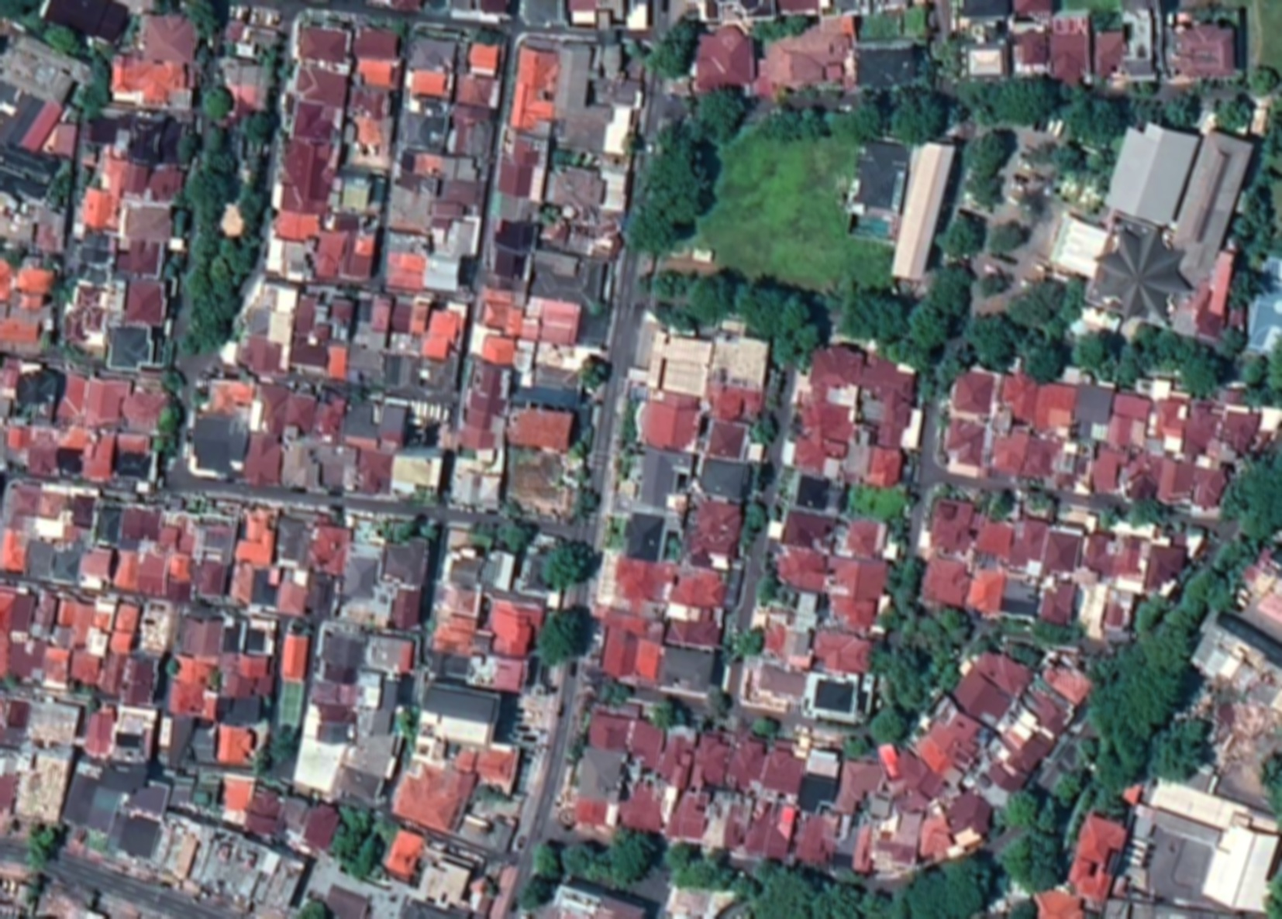building: (582, 547, 740, 693), (142, 806, 314, 919), (805, 316, 942, 453), (1079, 210, 1209, 339), (1158, 126, 1256, 289), (967, 673, 1083, 799), (532, 148, 632, 276), (291, 697, 405, 808), (1180, 610, 1282, 727), (1102, 114, 1201, 230), (787, 337, 869, 475), (888, 136, 956, 283), (941, 636, 1037, 733), (387, 148, 487, 236), (837, 133, 914, 245), (1135, 810, 1221, 908), (1142, 773, 1265, 841), (387, 749, 478, 838), (1199, 818, 1282, 915), (0, 27, 92, 113), (907, 697, 993, 787), (758, 16, 858, 92), (384, 214, 479, 293), (700, 329, 773, 431), (299, 853, 410, 919), (427, 544, 487, 659), (1060, 809, 1130, 905), (549, 79, 634, 158), (286, 703, 357, 797), (412, 676, 502, 750), (1170, 243, 1237, 342), (404, 843, 488, 919), (873, 740, 949, 818), (514, 335, 591, 411), (994, 369, 1080, 437), (455, 358, 516, 453), (524, 245, 610, 311), (56, 761, 129, 838), (239, 279, 299, 371), (504, 445, 577, 518), (0, 85, 66, 164), (758, 582, 821, 663), (11, 745, 74, 826), (683, 494, 746, 574), (1074, 572, 1142, 646), (364, 350, 458, 402), (508, 42, 561, 134), (107, 51, 191, 109), (1232, 549, 1281, 647), (645, 330, 714, 398), (187, 405, 249, 478), (1045, 212, 1111, 280), (654, 640, 727, 701), (278, 136, 334, 215), (690, 24, 756, 91), (18, 689, 86, 754), (0, 192, 69, 256), (634, 389, 701, 454), (40, 0, 133, 46), (864, 806, 923, 876), (59, 373, 131, 430), (493, 131, 550, 202), (707, 330, 772, 392), (548, 879, 650, 918), (481, 597, 543, 661), (793, 743, 846, 817), (482, 215, 538, 285), (448, 444, 505, 512), (852, 38, 927, 89), (1014, 678, 1078, 737), (598, 624, 663, 682), (802, 670, 874, 722), (506, 400, 575, 454), (104, 701, 158, 770), (314, 219, 375, 280), (832, 752, 886, 820), (0, 146, 63, 203), (571, 743, 626, 807), (610, 555, 673, 610), (742, 798, 797, 861), (519, 294, 583, 348), (632, 445, 684, 511), (104, 807, 164, 864), (164, 653, 215, 719), (1174, 22, 1234, 78), (313, 624, 368, 685), (418, 297, 468, 364), (551, 42, 593, 121), (127, 115, 192, 166), (808, 626, 873, 677), (758, 737, 811, 799), (722, 729, 773, 793), (654, 722, 702, 790), (919, 549, 974, 608), (215, 56, 273, 111), (1038, 653, 1096, 708), (687, 725, 735, 791), (384, 175, 439, 232), (943, 785, 1001, 839), (790, 806, 841, 867), (105, 323, 168, 372), (662, 601, 725, 650), (60, 283, 108, 347), (590, 47, 641, 107), (233, 506, 282, 568), (474, 285, 529, 340), (172, 609, 228, 663), (339, 537, 384, 604), (926, 495, 977, 554), (226, 7, 282, 59), (1049, 11, 1089, 83), (0, 587, 32, 677), (1240, 574, 1281, 644), (545, 163, 606, 210), (773, 544, 830, 594), (291, 59, 349, 108), (1175, 399, 1223, 458), (380, 825, 427, 885), (948, 365, 999, 419), (1044, 436, 1092, 493), (664, 786, 712, 843), (380, 533, 430, 587), (713, 792, 757, 853), (294, 18, 351, 65), (306, 517, 351, 576), (469, 739, 520, 791), (780, 507, 836, 554), (511, 375, 582, 412), (262, 235, 315, 284), (669, 566, 728, 610), (916, 804, 960, 863), (1215, 401, 1263, 455), (362, 630, 418, 676), (297, 797, 343, 853), (465, 651, 526, 693), (1187, 455, 1231, 513), (142, 14, 195, 62), (362, 630, 417, 676), (241, 430, 284, 488), (1040, 522, 1085, 577), (241, 783, 286, 838), (118, 380, 168, 429), (1121, 9, 1155, 81), (122, 773, 173, 821), (408, 26, 460, 73), (338, 395, 385, 447), (998, 570, 1045, 622), (623, 716, 668, 770), (585, 705, 633, 755), (1008, 513, 1050, 570), (289, 98, 341, 144), (452, 70, 497, 123), (696, 456, 749, 501), (831, 557, 887, 599), (401, 102, 447, 153), (311, 292, 355, 345), (943, 416, 986, 469), (810, 344, 864, 386), (965, 562, 1007, 616), (0, 478, 42, 532), (535, 298, 582, 346), (754, 661, 809, 702), (191, 516, 237, 565), (618, 781, 662, 832), (987, 425, 1030, 477), (75, 228, 114, 285), (118, 203, 173, 243), (390, 453, 441, 496), (12, 365, 63, 408), (204, 375, 256, 417), (623, 511, 665, 563), (1086, 443, 1128, 495), (1155, 454, 1197, 506), (1145, 538, 1186, 591), (599, 626, 639, 680), (1071, 379, 1116, 427), (273, 515, 313, 569), (445, 116, 494, 160), (279, 439, 322, 489), (1037, 576, 1079, 627), (442, 544, 486, 592), (763, 623, 813, 665), (430, 612, 477, 656), (42, 115, 85, 163), (82, 703, 118, 760), (973, 516, 1016, 563), (811, 675, 859, 717), (238, 335, 287, 376), (1019, 433, 1060, 482), (1012, 21, 1049, 75), (144, 160, 187, 206), (316, 444, 358, 491), (271, 207, 321, 246), (351, 24, 402, 61), (96, 759, 147, 796), (865, 443, 906, 489), (346, 82, 393, 122), (830, 595, 878, 634), (121, 654, 157, 706), (79, 188, 121, 232), (226, 655, 271, 696), (216, 694, 267, 730), (320, 884, 372, 919), (75, 228, 118, 270), (706, 419, 748, 462), (214, 724, 257, 766), (0, 307, 44, 348), (680, 659, 721, 703), (81, 431, 116, 482), (114, 240, 162, 277), (844, 517, 886, 559), (494, 157, 535, 200), (278, 631, 311, 683), (7, 638, 46, 682), (275, 791, 314, 835), (49, 538, 85, 585), (124, 281, 163, 324), (375, 399, 409, 448), (57, 600, 93, 646), (460, 320, 500, 361), (789, 434, 830, 474), (119, 505, 162, 543), (259, 382, 290, 434), (357, 448, 392, 494), (134, 550, 169, 596), (422, 252, 462, 292), (385, 251, 425, 291), (593, 549, 620, 608), (1080, 529, 1115, 574), (443, 0, 506, 25), (164, 714, 193, 768), (95, 651, 129, 697), (345, 343, 384, 383), (191, 558, 228, 600), (283, 388, 318, 432), (1093, 27, 1123, 78), (389, 586, 423, 631), (28, 591, 59, 640), (288, 336, 330, 372), (13, 263, 55, 299), (92, 500, 124, 546), (1110, 389, 1152, 424), (98, 155, 129, 202), (1034, 889, 1084, 918), (794, 474, 832, 512), (82, 112, 121, 149), (66, 647, 103, 686), (967, 43, 1008, 78), (337, 173, 372, 214), (436, 175, 480, 207), (218, 775, 254, 814), (351, 321, 390, 356), (40, 645, 71, 689), (113, 449, 153, 483), (882, 363, 914, 405), (479, 332, 517, 367), (78, 545, 113, 583), (354, 117, 387, 157), (571, 796, 611, 829), (23, 538, 55, 579), (1112, 536, 1143, 578), (63, 492, 97, 530), (275, 578, 308, 617), (291, 291, 317, 339), (409, 67, 449, 98), (0, 528, 28, 572), (465, 41, 500, 76), (250, 568, 280, 608), (518, 0, 564, 26), (1156, 398, 1185, 438), (494, 552, 522, 593), (356, 59, 395, 88), (0, 696, 30, 733), (960, 0, 1012, 21), (111, 600, 141, 636), (113, 550, 139, 591), (852, 819, 872, 872), (189, 723, 216, 761), (655, 784, 680, 825), (1105, 414, 1135, 447), (27, 441, 56, 475), (375, 677, 401, 714), (540, 219, 571, 250), (388, 296, 413, 334), (367, 295, 392, 333), (715, 0, 765, 19), (1127, 471, 1157, 502), (244, 623, 273, 655), (123, 163, 150, 197), (219, 619, 243, 656), (1013, 0, 1060, 17), (625, 0, 651, 30), (237, 654, 269, 678), (156, 522, 182, 551), (431, 200, 466, 221), (0, 774, 17, 817), (1258, 405, 1282, 435), (5, 425, 32, 451), (57, 426, 85, 450), (108, 630, 133, 655), (0, 259, 13, 302), (455, 158, 477, 181), (478, 0, 509, 15), (389, 0, 424, 11), (1258, 634, 1279, 650), (571, 48, 585, 71), (422, 0, 449, 10)
tree: (1066, 634, 1189, 758), (1138, 564, 1241, 677), (1003, 254, 1099, 352), (637, 117, 722, 227), (899, 847, 1010, 919), (1138, 702, 1223, 793), (736, 860, 863, 918), (991, 822, 1073, 900), (1045, 77, 1133, 149), (525, 594, 601, 676), (173, 154, 248, 230), (675, 75, 751, 148), (1220, 452, 1282, 541), (1230, 165, 1282, 264), (1085, 727, 1157, 798), (528, 531, 606, 594), (589, 826, 662, 893), (677, 262, 748, 330), (866, 646, 939, 710), (823, 291, 906, 347), (640, 12, 704, 84), (882, 86, 954, 150), (616, 196, 684, 263), (957, 125, 1011, 208), (831, 86, 897, 151), (728, 271, 790, 337), (976, 73, 1052, 124), (895, 295, 955, 355), (1063, 321, 1123, 379), (177, 295, 234, 354), (1013, 330, 1072, 386), (1113, 319, 1157, 388), (1240, 333, 1282, 405), (969, 312, 1021, 370), (1143, 325, 1198, 379), (665, 845, 729, 891), (1121, 590, 1171, 648), (748, 6, 820, 46), (210, 228, 262, 283), (1175, 346, 1227, 400), (996, 780, 1047, 835), (1211, 528, 1262, 583), (1205, 88, 1258, 140), (910, 609, 959, 665), (753, 107, 824, 145), (879, 553, 927, 608), (1156, 82, 1206, 133), (343, 829, 390, 883), (553, 831, 602, 881), (927, 262, 971, 316), (861, 703, 915, 747), (871, 596, 921, 643), (175, 264, 226, 309), (923, 349, 968, 400), (491, 509, 539, 556), (933, 210, 979, 259), (769, 291, 816, 338), (507, 871, 557, 915), (524, 839, 569, 886), (177, 0, 227, 42), (81, 49, 111, 119), (179, 224, 225, 269), (39, 18, 87, 61), (321, 823, 364, 870), (1080, 779, 1129, 820), (1125, 491, 1176, 530), (876, 335, 934, 369), (194, 80, 238, 124), (643, 693, 686, 737), (931, 604, 975, 647), (232, 187, 264, 246), (636, 267, 694, 299), (559, 481, 601, 525), (573, 350, 615, 393), (1230, 347, 1273, 388), (1222, 265, 1266, 305), (1048, 764, 1086, 808), (984, 219, 1030, 255), (234, 105, 274, 145), (199, 254, 236, 297), (1255, 110, 1282, 168), (264, 721, 298, 766), (332, 799, 374, 835), (934, 30, 970, 72), (21, 826, 56, 869), (860, 886, 905, 917), (469, 779, 510, 813), (1027, 621, 1082, 646), (649, 303, 698, 331), (1256, 755, 1280, 812), (45, 167, 77, 209), (743, 411, 780, 447), (1046, 139, 1083, 175), (151, 400, 184, 439), (737, 501, 766, 545), (788, 316, 824, 351), (767, 332, 803, 367), (973, 270, 1012, 302), (965, 627, 1005, 658), (1244, 63, 1282, 94), (154, 364, 188, 397), (986, 486, 1019, 520), (732, 626, 767, 658), (698, 685, 731, 718), (933, 658, 966, 691), (1123, 72, 1156, 105), (387, 514, 422, 545), (393, 703, 420, 742), (1004, 640, 1042, 667), (913, 56, 940, 94), (617, 397, 639, 443), (610, 446, 637, 483), (210, 292, 242, 323), (740, 458, 770, 491), (597, 679, 634, 705), (1032, 798, 1062, 830), (545, 138, 576, 168), (198, 145, 233, 171), (754, 569, 780, 604), (18, 877, 48, 907), (174, 329, 204, 359), (912, 372, 940, 403), (239, 154, 263, 189), (88, 33, 118, 61), (994, 612, 1027, 637), (0, 0, 41, 20), (249, 745, 274, 777), (57, 339, 87, 365), (55, 274, 79, 305), (37, 249, 64, 276), (18, 8, 46, 34), (468, 25, 502, 45), (536, 203, 563, 228), (749, 714, 778, 737), (65, 84, 90, 110), (1091, 10, 1125, 29), (120, 15, 141, 45), (956, 81, 975, 114), (1066, 810, 1085, 843), (498, 495, 523, 520), (1096, 504, 1121, 529), (1006, 896, 1035, 917), (296, 900, 331, 917), (565, 438, 592, 460), (842, 737, 870, 758), (886, 518, 907, 546), (188, 41, 212, 65), (568, 463, 593, 486), (203, 123, 226, 147), (661, 536, 682, 561), (186, 386, 208, 409), (373, 513, 394, 537), (273, 59, 295, 81), (176, 134, 197, 157), (149, 0, 180, 15), (254, 50, 276, 70), (418, 521, 439, 540), (75, 680, 94, 699), (566, 742, 585, 761), (962, 317, 976, 342), (160, 438, 175, 461), (148, 433, 167, 451), (82, 697, 100, 715), (623, 41, 644, 56), (1, 672, 19, 689), (38, 331, 53, 351), (220, 40, 237, 57), (763, 504, 780, 521), (771, 89, 791, 103), (208, 668, 221, 689), (163, 658, 179, 675), (341, 283, 358, 299), (799, 87, 816, 100), (824, 87, 841, 99), (191, 592, 205, 606), (486, 883, 498, 898)
